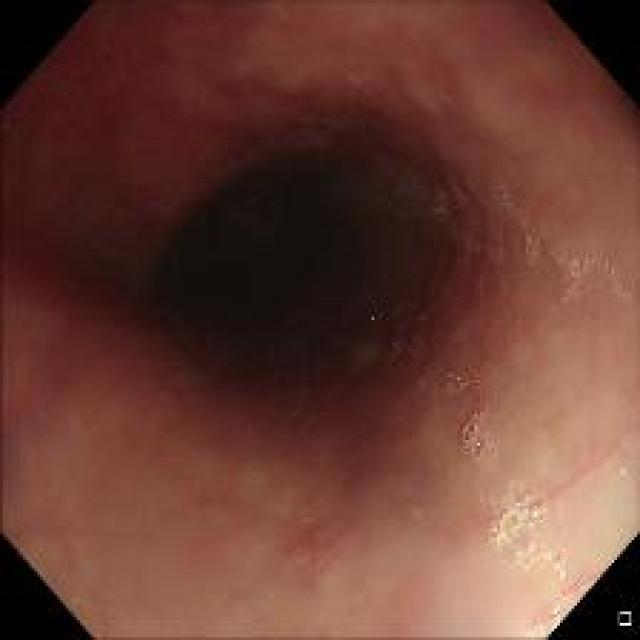bubbles: (485, 482, 572, 592), (550, 244, 632, 308), (396, 176, 474, 232), (454, 405, 504, 462), (480, 178, 525, 222), (529, 602, 572, 638), (391, 330, 422, 364), (521, 230, 548, 268), (439, 362, 462, 394)
contrast: (131, 119, 486, 389)
specularity: (552, 604, 560, 612), (369, 314, 375, 324), (436, 206, 444, 212)
